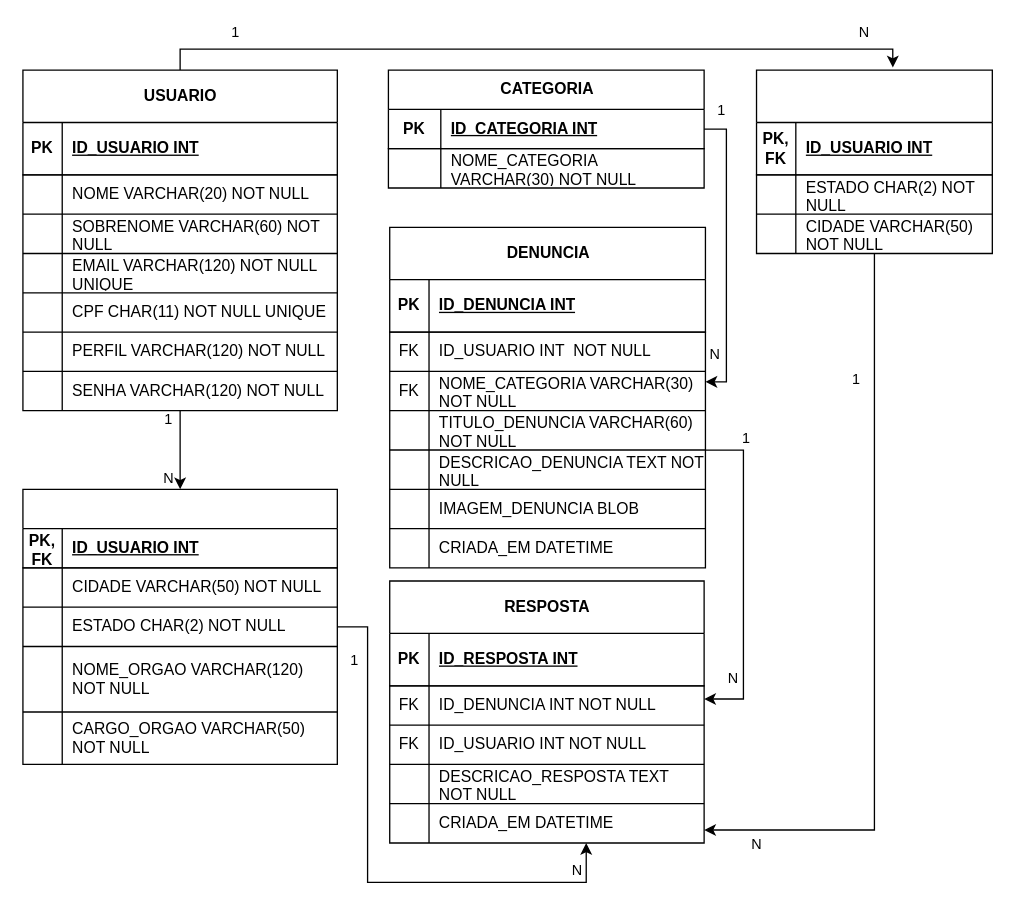
The diagram is 1015 pixels wide and 916 high, and some of its shapes have lost their labels. Here are the shapes that lost their labels. From the top down, the box of each, then its label:
(755, 69, 992, 253): MUNICIPE
(22, 488, 337, 764): REPRESENTANTE
